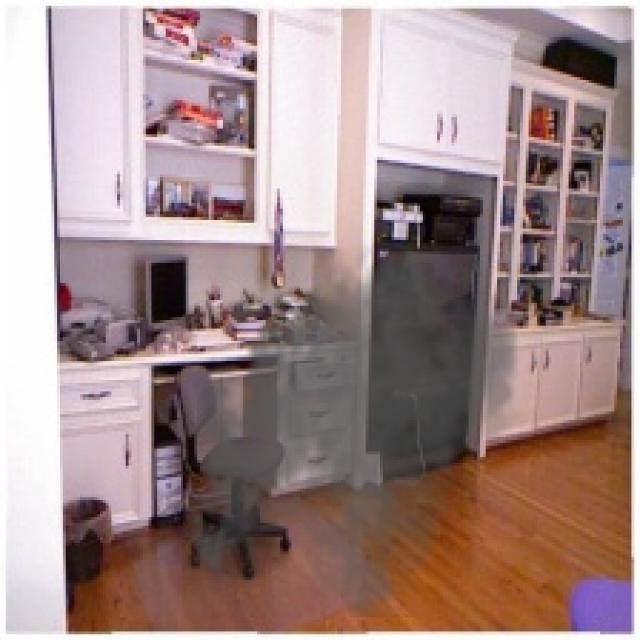Smoke: (177, 232, 526, 617)
